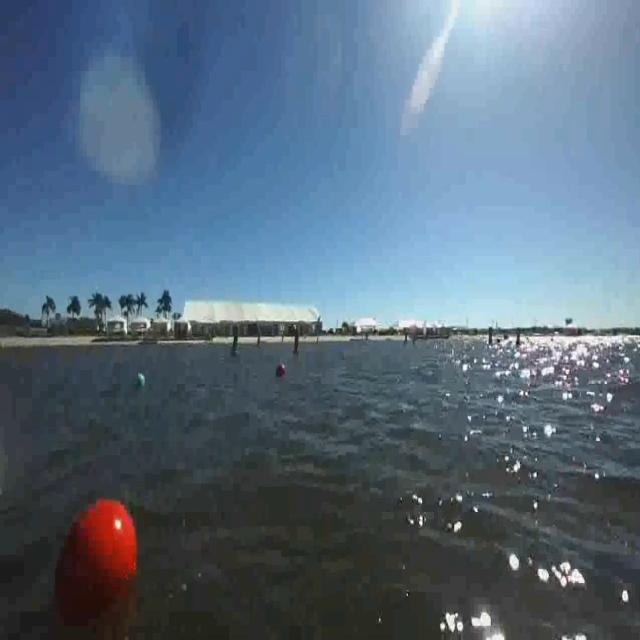black-buoy: (276, 361, 286, 377)
green-buoy: (138, 374, 145, 388)
green-column-buoy: (230, 325, 242, 359)
red-buoy: (48, 492, 148, 638)
